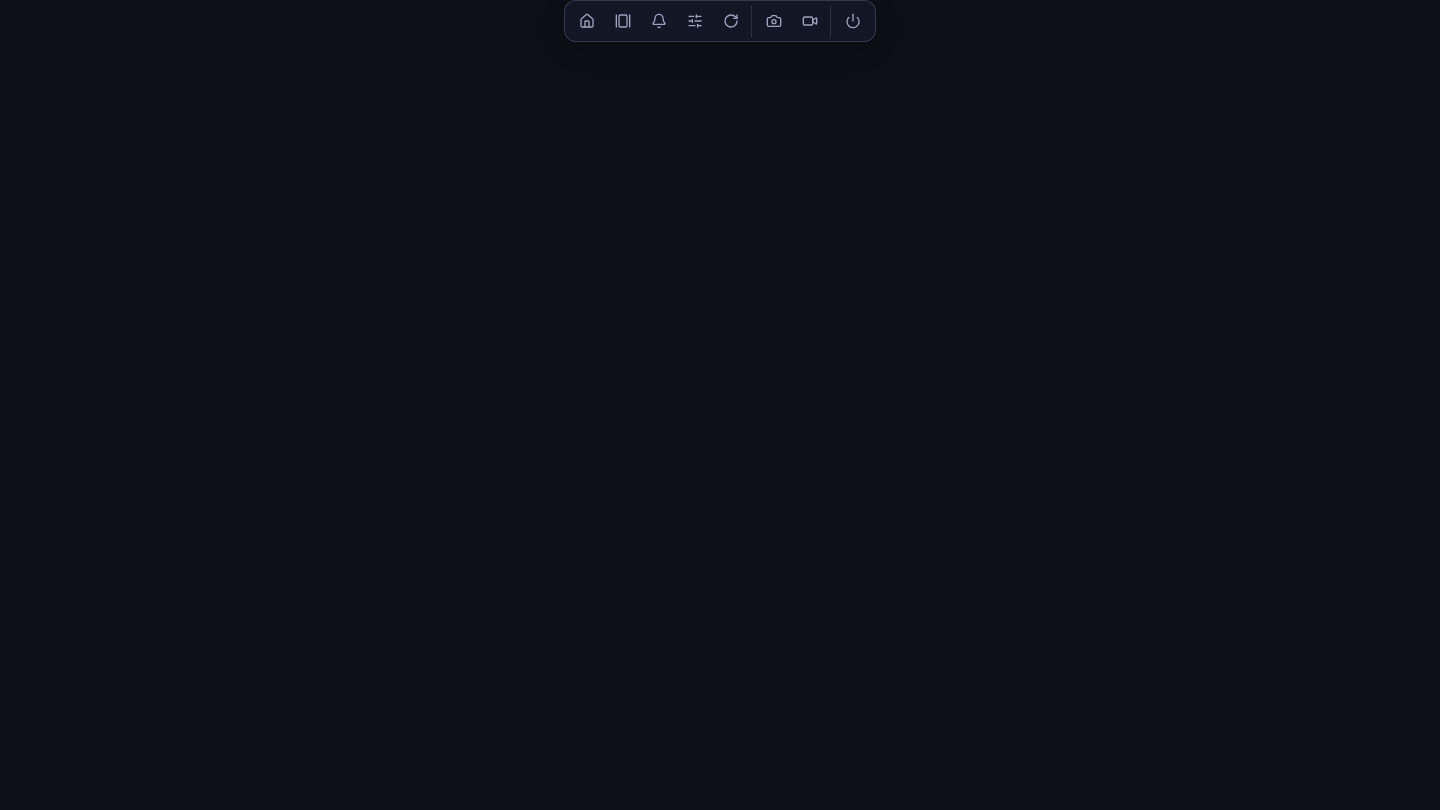
Test: SimulatorControlDock › cancels owned confirmation with Escape and returns focus to the end control
The image size is (1440, 810).
Click the button named "Encerrar simulação" at (853,21), box [837,5,869,37]
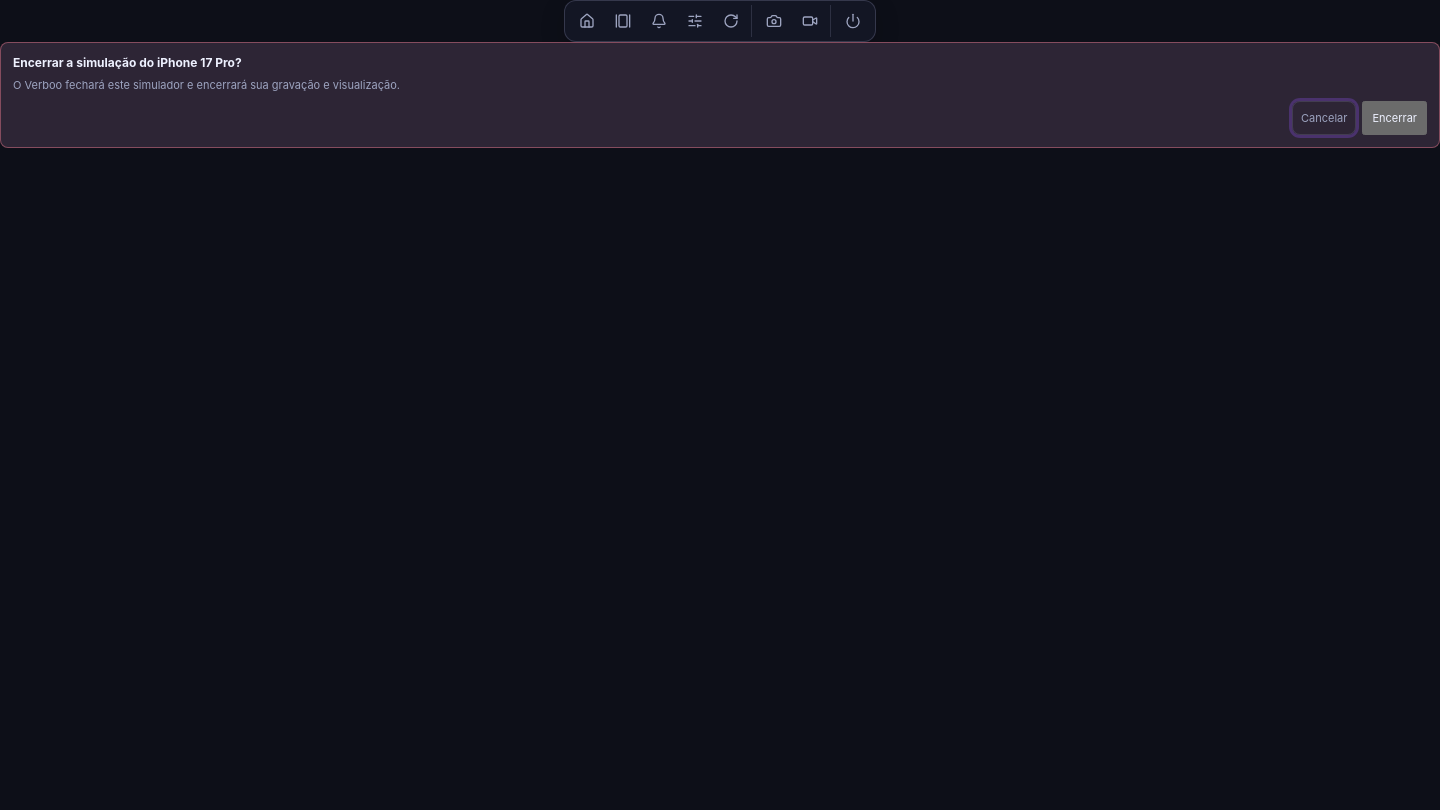
Press Escape in the dialog, box [0,42,1439,148]
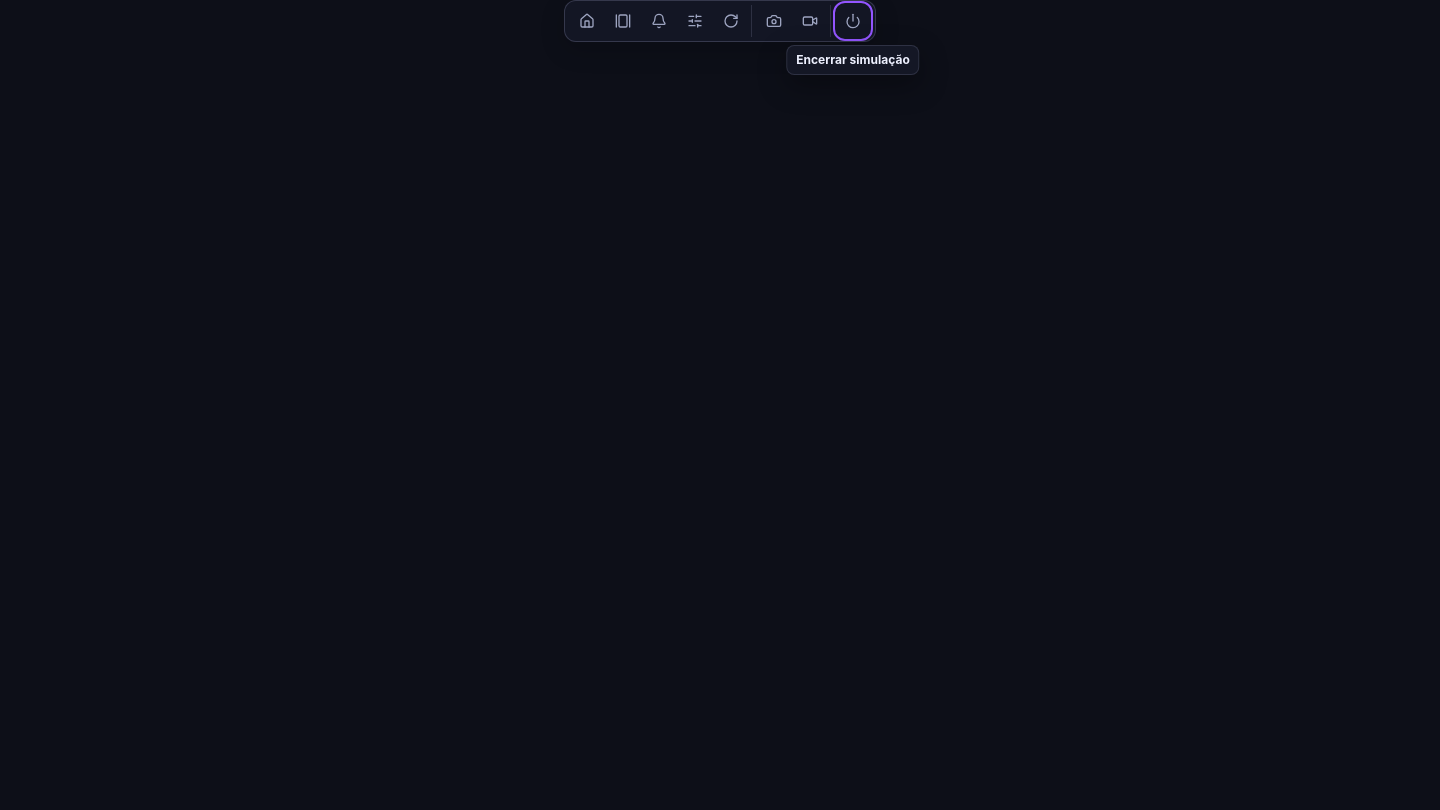
Now the dialog is gone
